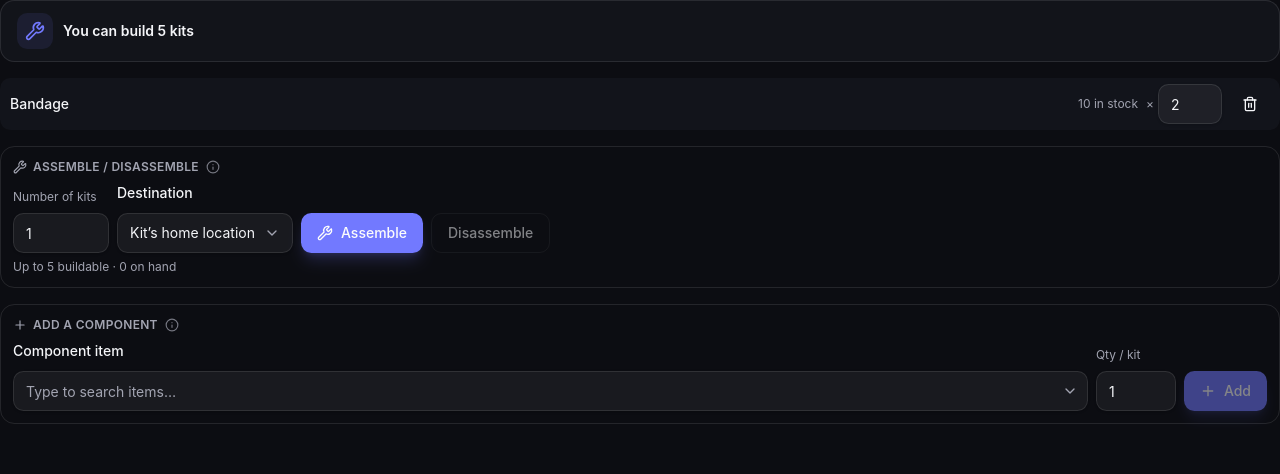
Test: KitEditor — add a component › excludes the kit itself and already-added components from the picker
What coordinates should you click on to do the following:
click the dropdown labelled "Component item"
I would click on:
 (550, 391)
Its box is 13,371 -> 1088,411.
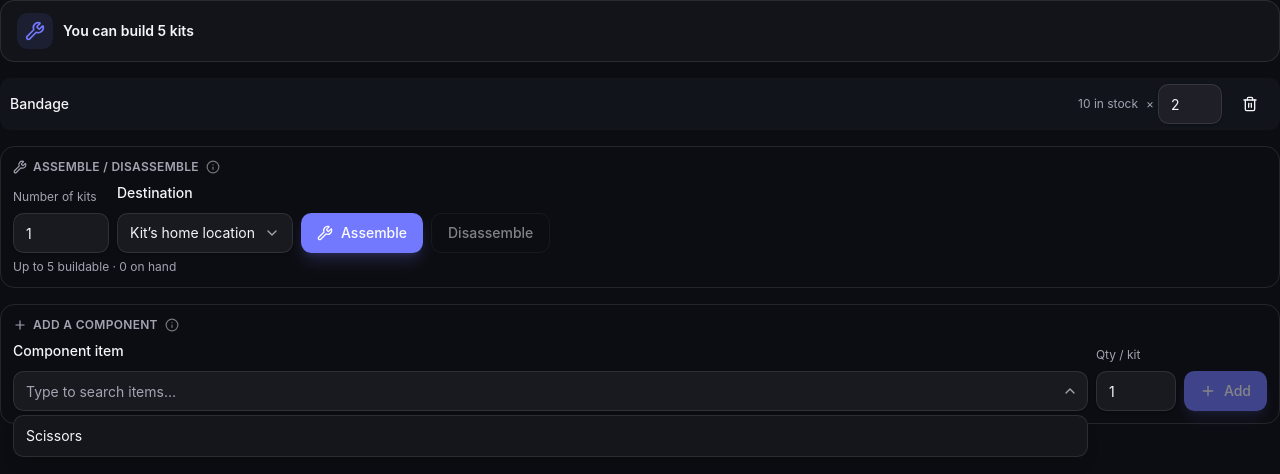
Now the option "Scissors" is shown, box 26,427 -> 82,444
